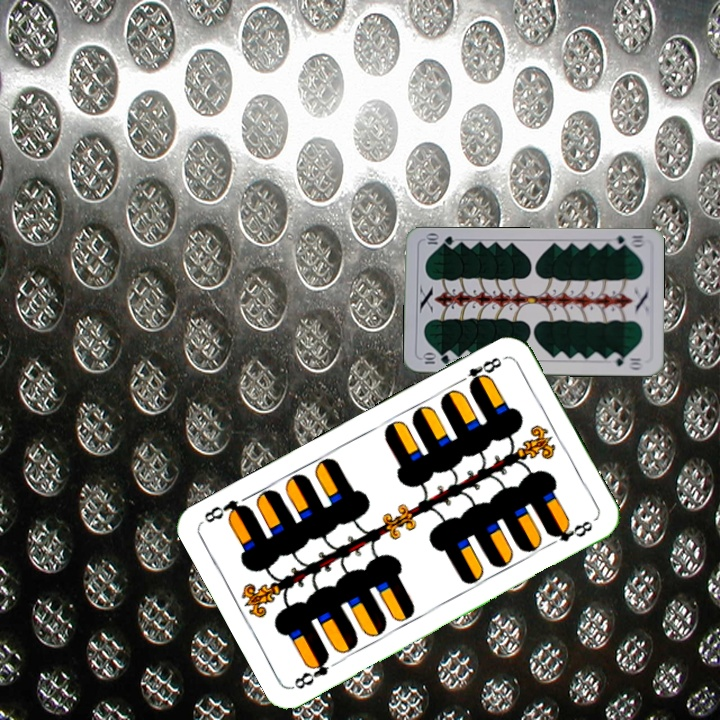E8: (453, 353, 508, 391), (289, 650, 332, 692)
G10: (607, 231, 648, 251), (419, 351, 453, 366)
